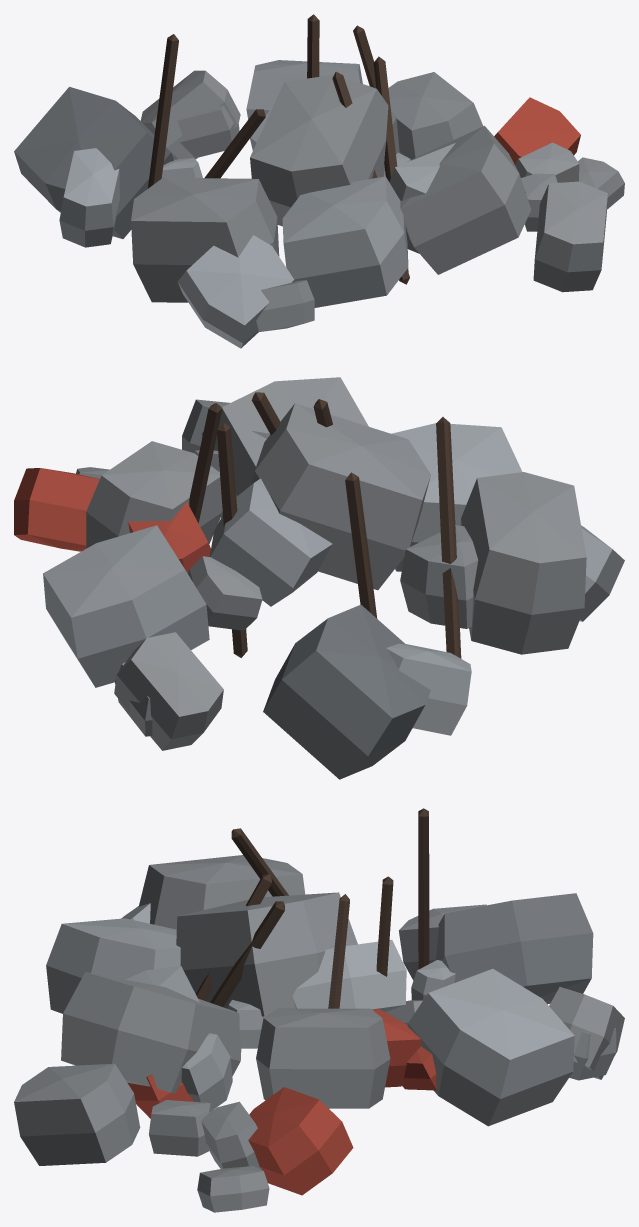
Rendered from r-rubble.glb.
3 views of the same model, one above another, from view 1: azimuth 30°, elevation 25°; view 2: azimuth 150°, elevation 25°; view 3: azimuth 270°, elevation 25° (orthographic). The views are drawn at different scales.
Parts seen in each view (by area): view 1: p; view 2: p; view 3: p.
Boxes of the visible parts, x1,y1,x2,y2 form: p: [14, 14, 624, 348]; p: [14, 377, 624, 779]; p: [14, 808, 624, 1212].
Bounding box in the file's own units: 2.21 × 0.9144 × 2.15.
